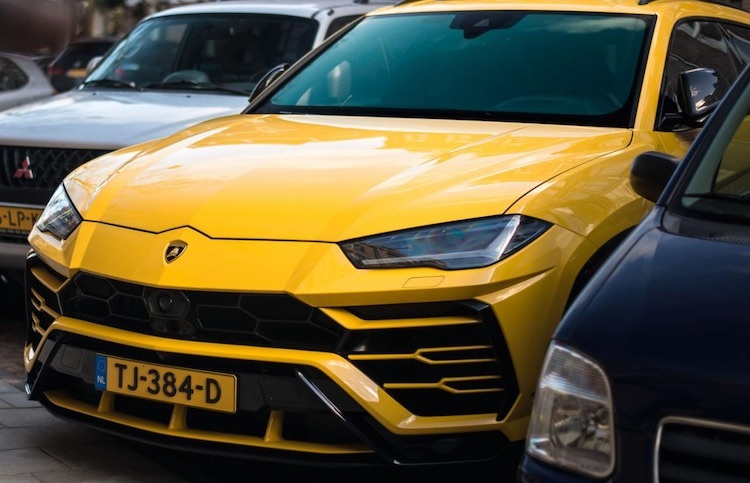kenteken: (91, 355, 236, 413)
